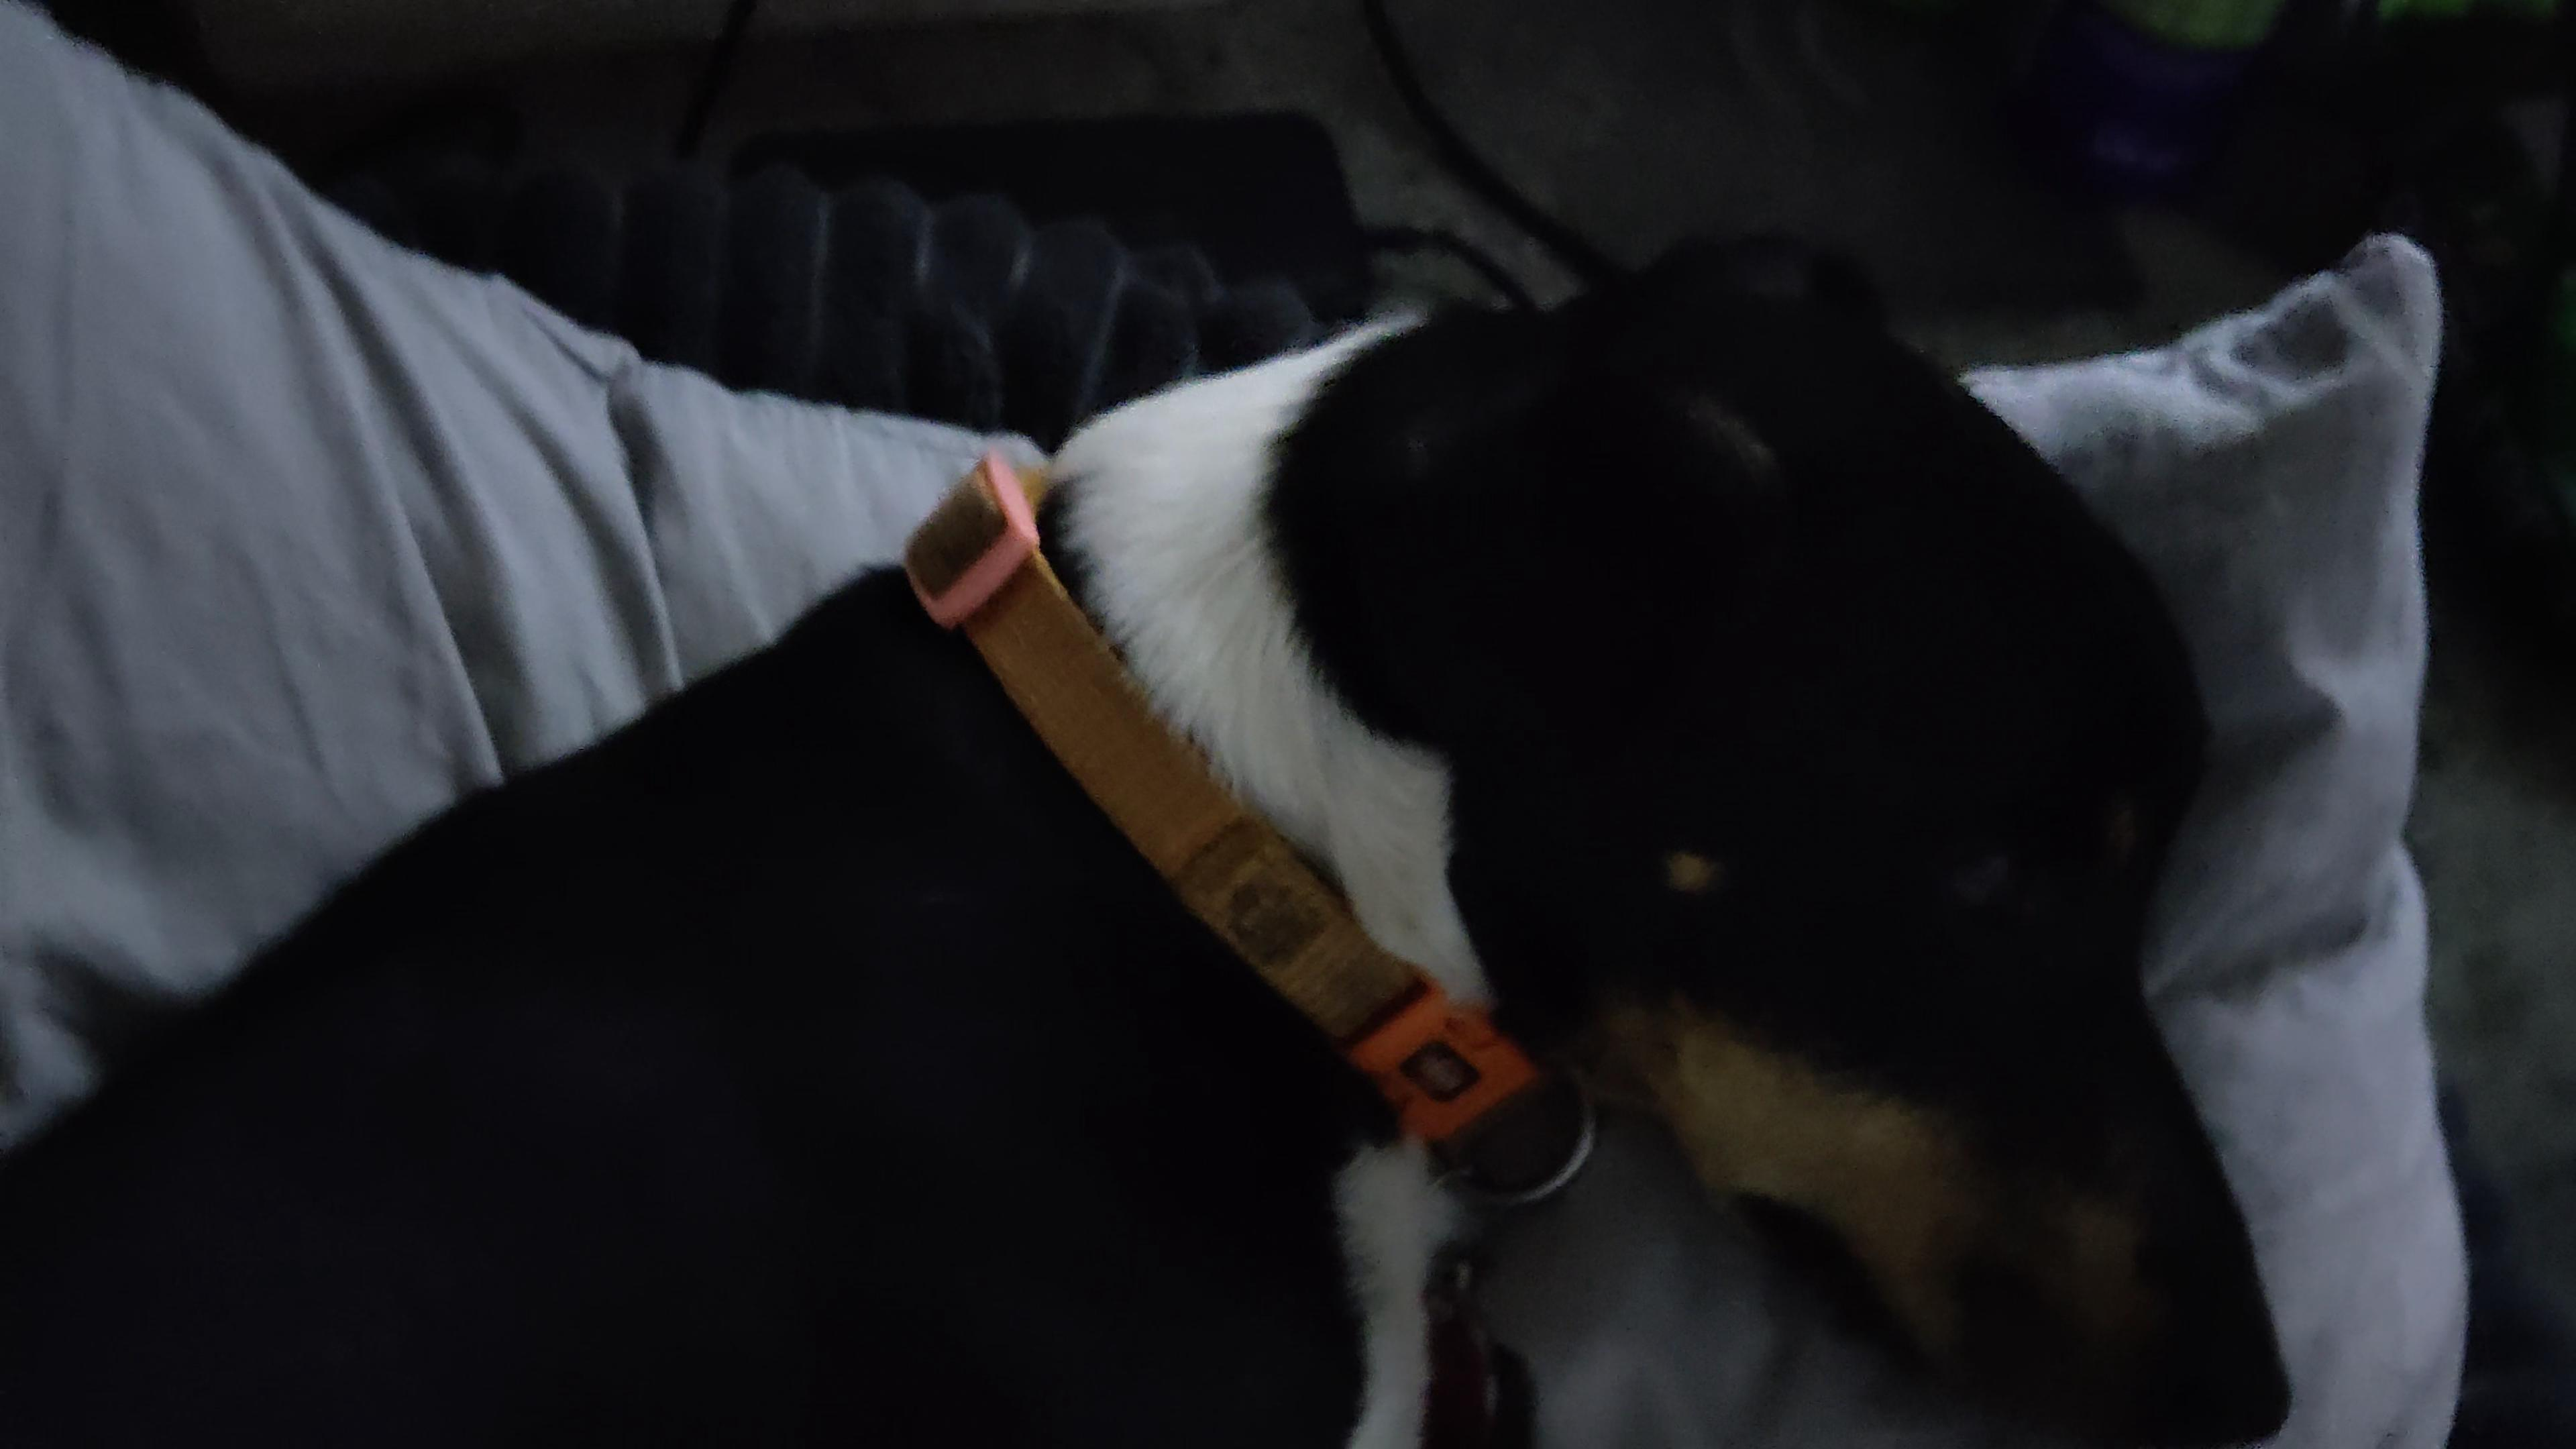Dog: (0, 198, 2342, 1449)
